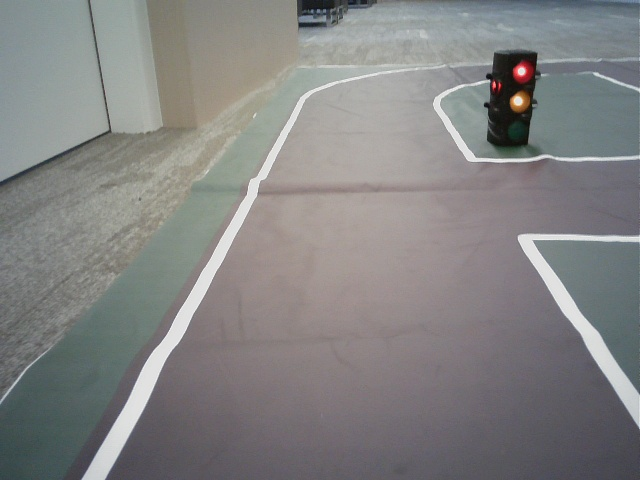red: (502, 56, 533, 144)
